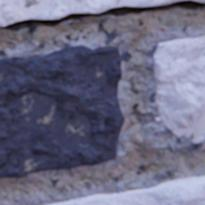brick: (0, 45, 123, 177), (152, 36, 204, 142), (0, 0, 181, 26), (47, 175, 204, 204), (193, 0, 204, 3)
crack: (1, 0, 202, 30)
